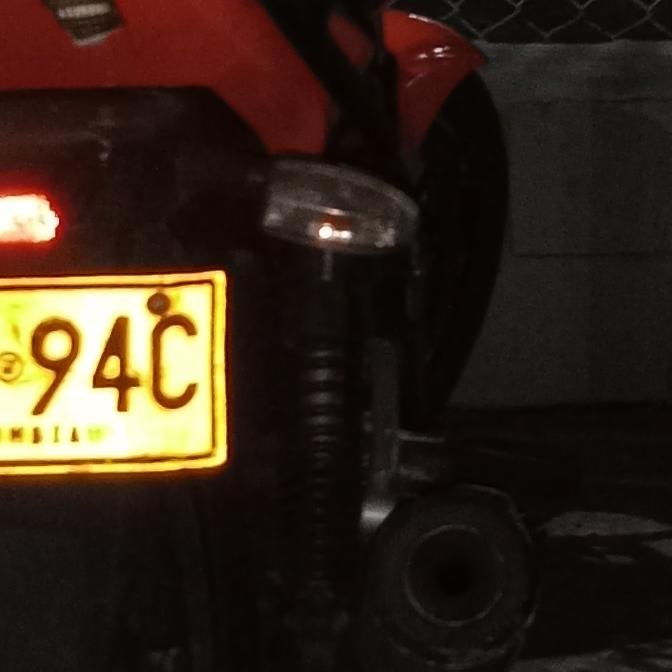plates: (0, 277, 224, 472)
